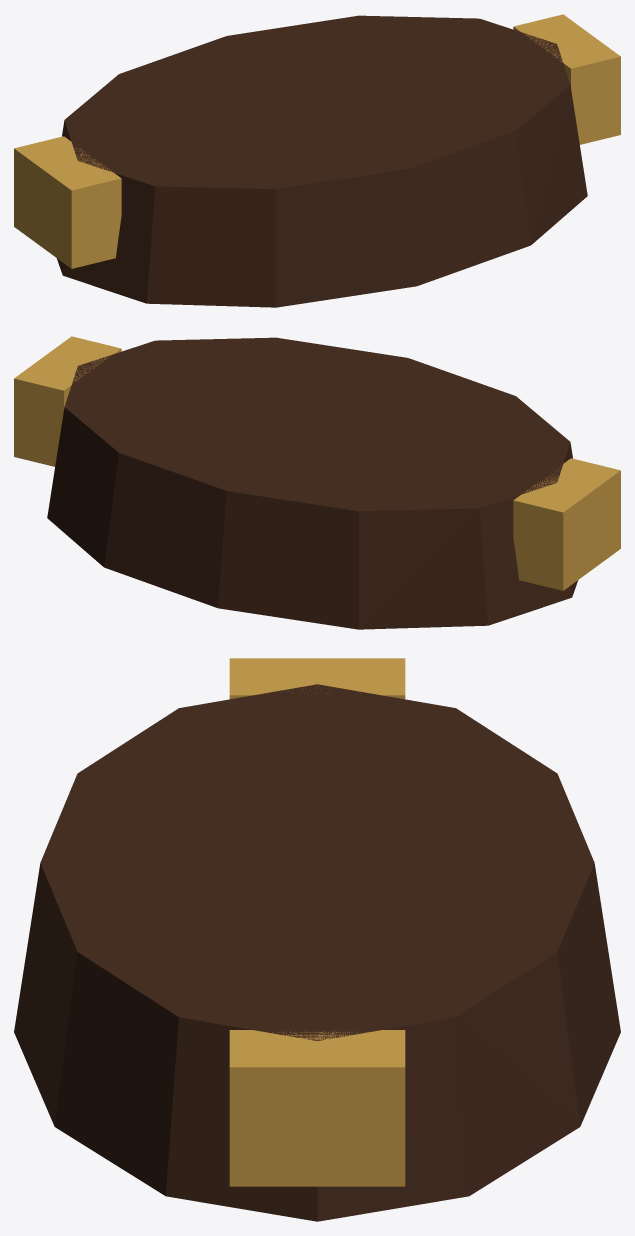
Rendered from gear_hard_chaps_hips_m.glb.
3 renders of one model, top to bottom at view 1: azimuth 30°, elevation 25°; view 2: azimuth 150°, elevation 25°; view 3: azimuth 270°, elevation 25°, orthographic. The views are drawn at different scales.
Parts seen in each view (by area): view 1: gear_hard_chaps_hips_m; view 2: gear_hard_chaps_hips_m; view 3: gear_hard_chaps_hips_m.
Part boxes in pixels (bbox=[...]): gear_hard_chaps_hips_m: bbox=[14, 14, 620, 307]; gear_hard_chaps_hips_m: bbox=[14, 336, 620, 629]; gear_hard_chaps_hips_m: bbox=[14, 658, 620, 1221].
Bounding box in the file's own units: 0.44 × 0.085 × 0.276.
